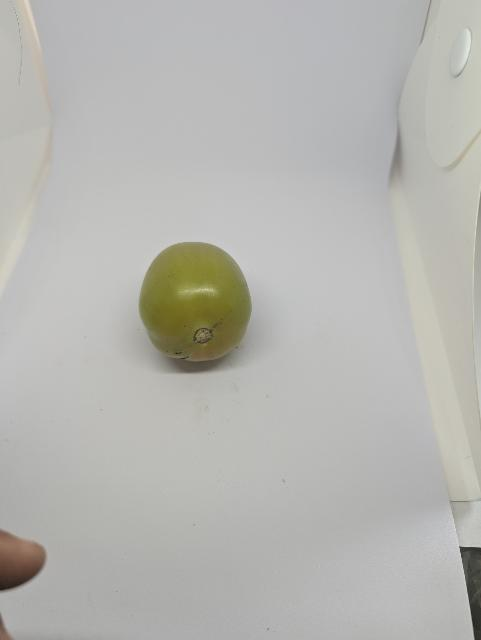green: (124, 231, 257, 369)
